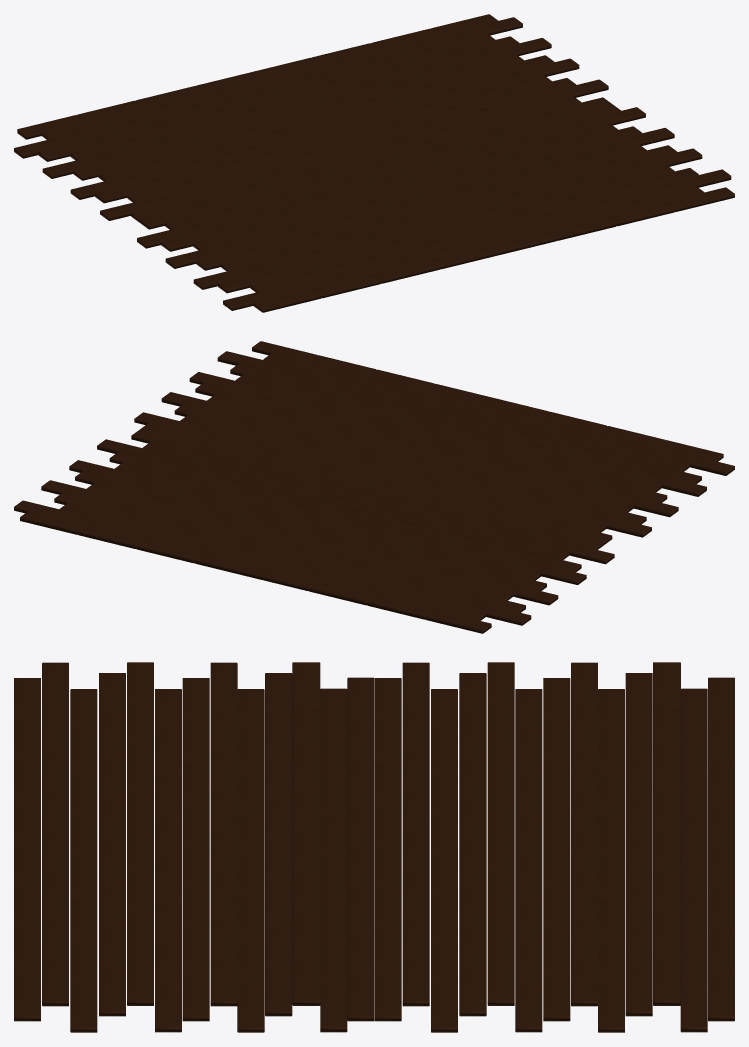
Rendered from floor_2.fbx.
3 renders of one model, top to bottom at view 1: azimuth 30°, elevation 25°; view 2: azimuth 150°, elevation 25°; view 3: azimuth 270°, elevation 25°, orthographic. The views are drawn at different scales.
Parts seen in each view (by area): view 1: Cube.005; view 2: Cube.005; view 3: Cube.005.
Part boxes in pixels (x1=…): Cube.005: x1=14, y1=14, x2=734, y2=312; Cube.005: x1=14, y1=341, x2=734, y2=633; Cube.005: x1=14, y1=662, x2=734, y2=1032.
Bounding box in the file's own units: 274 × 1.98 × 229.
